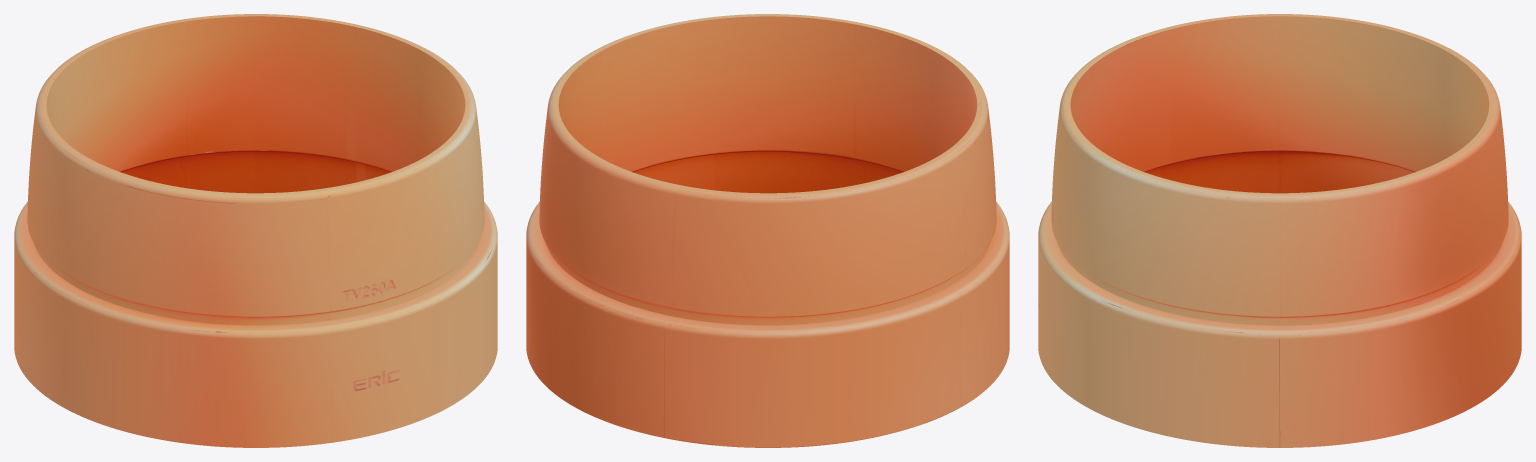
The picture shows the model from 3 angles, left to right: view 1: azimuth 30°, elevation 25°; view 2: azimuth 150°, elevation 25°; view 3: azimuth 270°, elevation 25°; orthographic projection.
Parts seen in each view (by area): view 1: tv250a_Baked; view 2: tv250a_Baked; view 3: tv250a_Baked.
Boxes of the visible parts, x1,y1,x2,y2 form: tv250a_Baked: [14, 14, 497, 447]; tv250a_Baked: [526, 14, 1009, 447]; tv250a_Baked: [1038, 14, 1521, 447].
Bounding box in the file's own units: 0.1046 × 0.0575 × 0.1046.
1 material, 1 textured.
